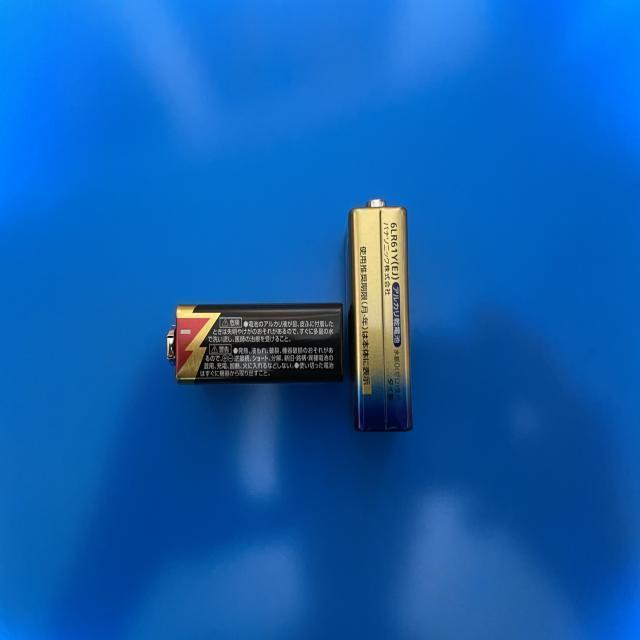9V: (345, 196, 413, 436), (164, 303, 344, 385)
